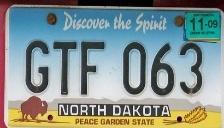0: (121, 39, 147, 96)
3: (178, 40, 205, 96)
6: (149, 40, 176, 96)
F: (77, 40, 106, 97)
G: (24, 38, 51, 94)
T: (52, 39, 78, 98)
